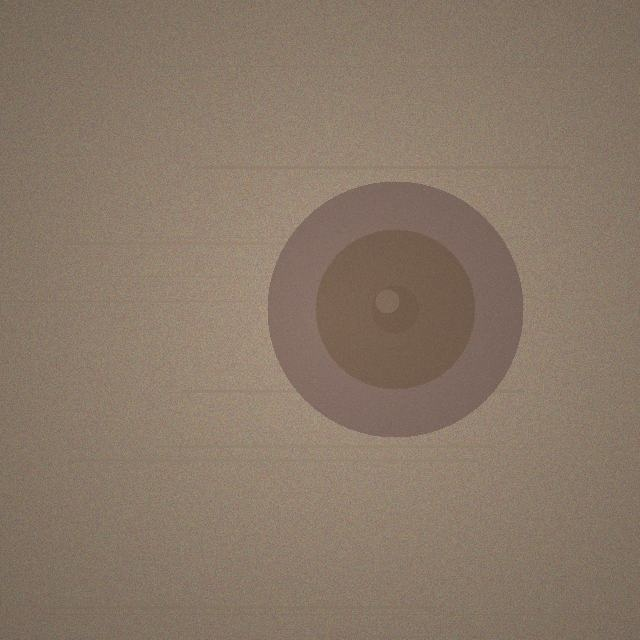good: (267, 181, 523, 437)
